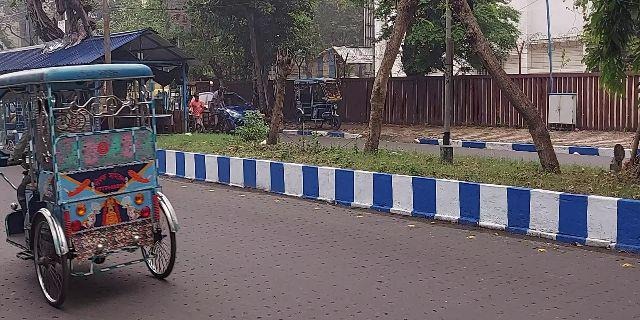Rickshaw: (2, 65, 186, 306)
